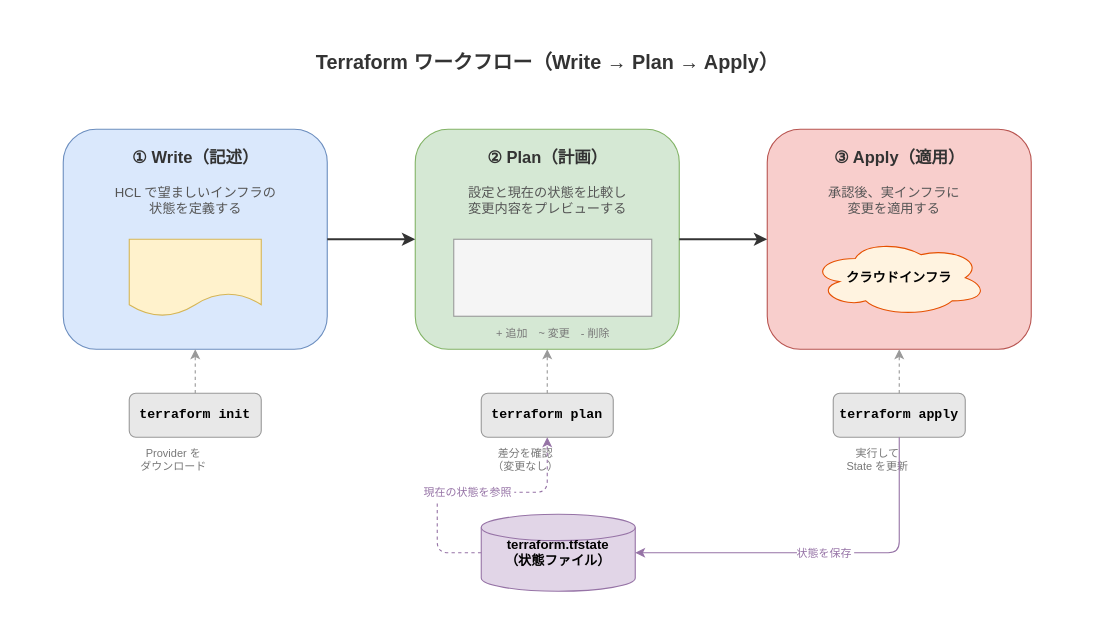
Image size: 1093x631. Some labels were removed from this diagram. The shapes that lost their labels are listed below. From the top down, each one's centre as x and y in pixels, then its label:
the point at 194,277: main.tf variables.tf outputs.tf
the point at 552,277: + aws_instance.web ~ aws_s3_bucket.data - aws_vpc.old
